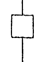Cable Termination Box: (9, 11, 38, 41)
